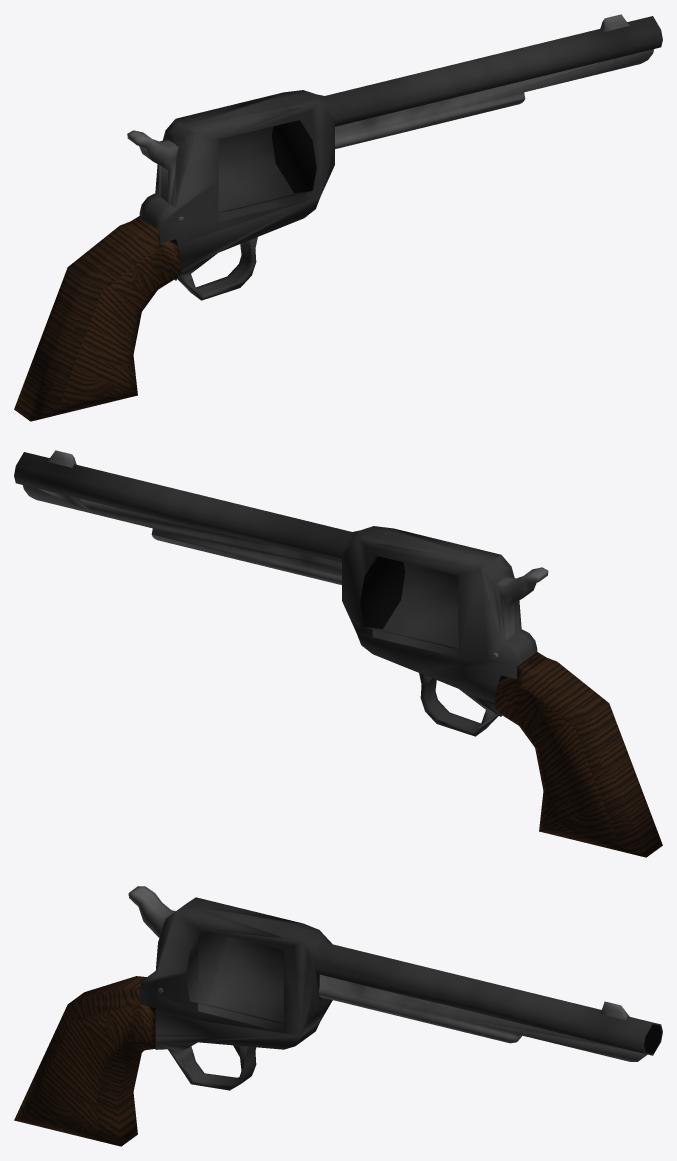
The model's file is REVOLVER.fbx.
3 renders of one model, top to bottom at view 1: azimuth 30°, elevation 25°; view 2: azimuth 150°, elevation 25°; view 3: azimuth 330°, elevation 25°, orthographic.
Visible parts, largest first — view 1: gun, cylinder, hammer; view 2: gun, cylinder, hammer; view 3: gun, cylinder, hammer.
Boxes of the visible parts, x1,y1,x2,y2 form: gun: (14,14,662,421); cylinder: (218,120,316,212); hammer: (127,130,183,221); gun: (14,450,662,857); cylinder: (360,556,458,648); hammer: (491,567,548,658); gun: (14,897,662,1146); cylinder: (186,934,283,1023); hammer: (128,886,175,993).
Size of the model in its own units: 363 by 140 by 45.03.
